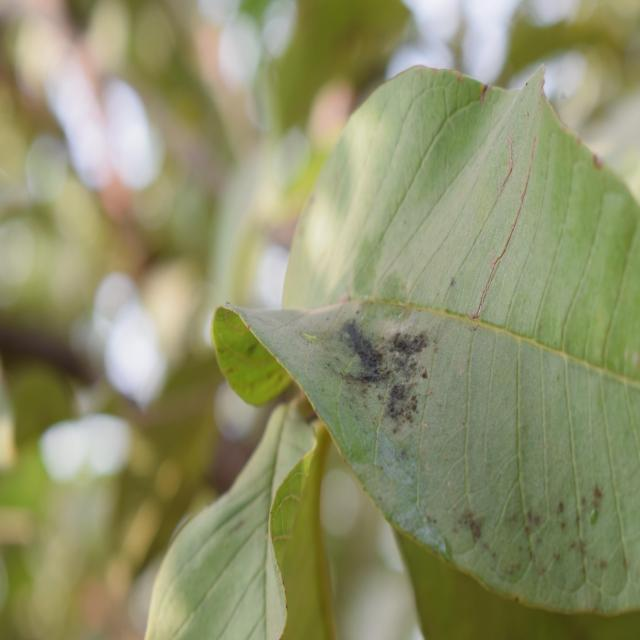Dot: (212, 68, 640, 615)
